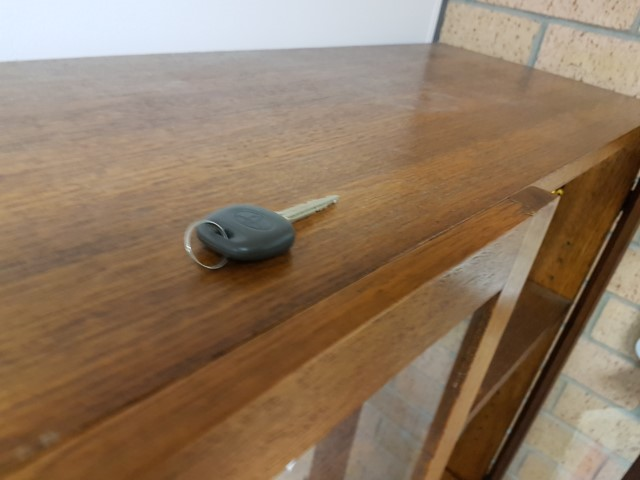key: (195, 193, 337, 262)
